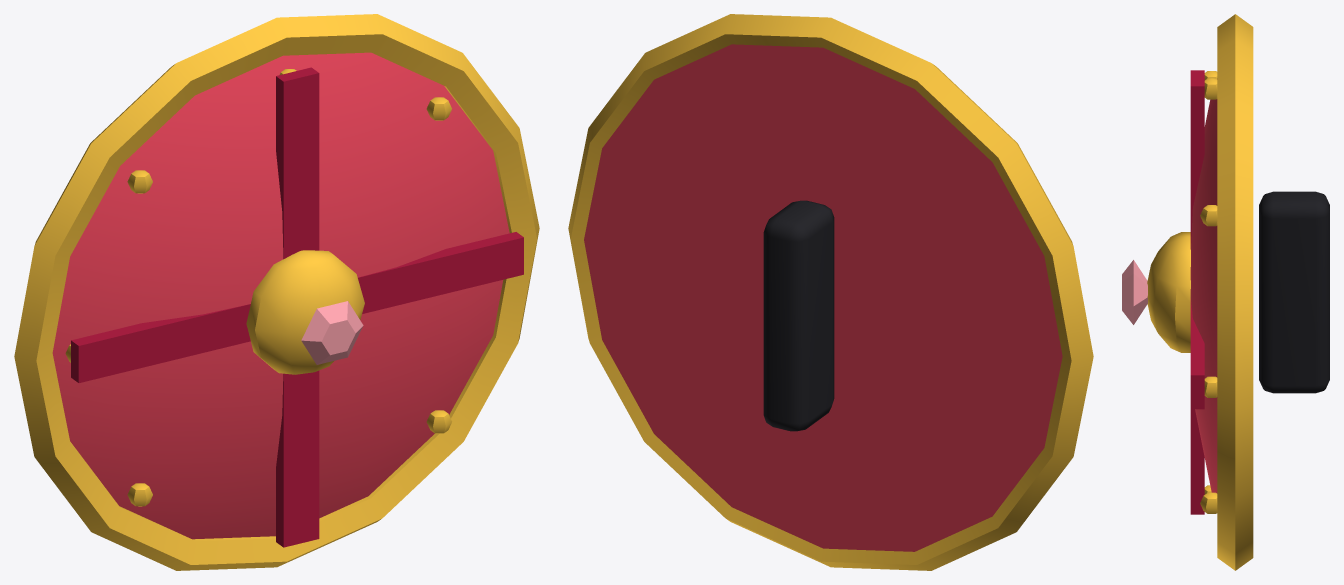
File: RubyShield.fbx
3 views of the same model, side by side, from view 1: azimuth 30°, elevation 25°; view 2: azimuth 150°, elevation 25°; view 3: azimuth 270°, elevation 25° (orthographic). The views are drawn at different scales.
Visible parts, largest first — view 1: RubyShield; view 2: RubyShield; view 3: RubyShield.
Part boxes in pixels (x1,y1,x2,y2): RubyShield: [14, 14, 539, 570]; RubyShield: [568, 14, 1093, 570]; RubyShield: [1122, 14, 1329, 570].
Bounding box in the file's own units: 2.36 × 2.36 × 0.88.
1 material, 1 textured.
